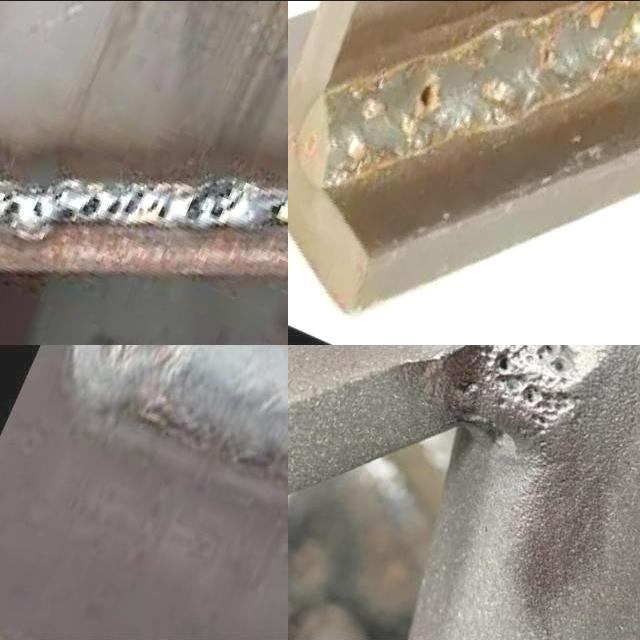defect: (486, 345, 572, 441), (183, 175, 243, 227), (104, 192, 172, 227), (55, 194, 106, 224), (528, 345, 571, 375), (0, 181, 27, 223), (416, 76, 439, 109), (538, 36, 557, 66), (266, 195, 288, 220), (29, 197, 47, 222)
